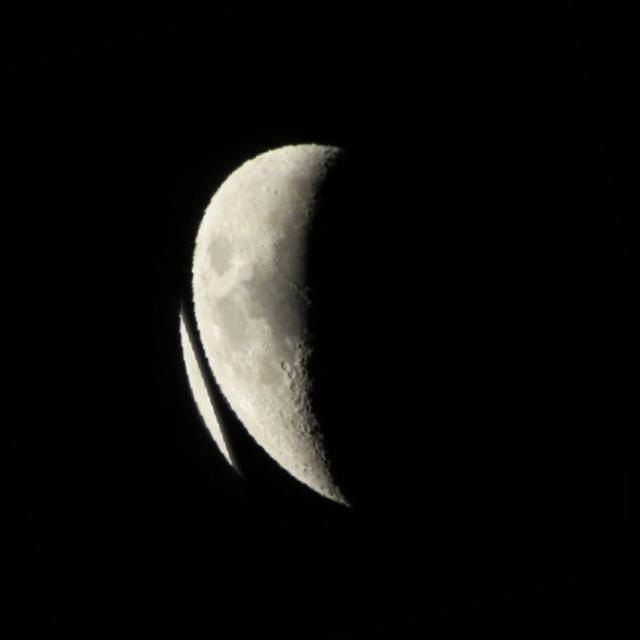moon: (122, 96, 506, 564)
